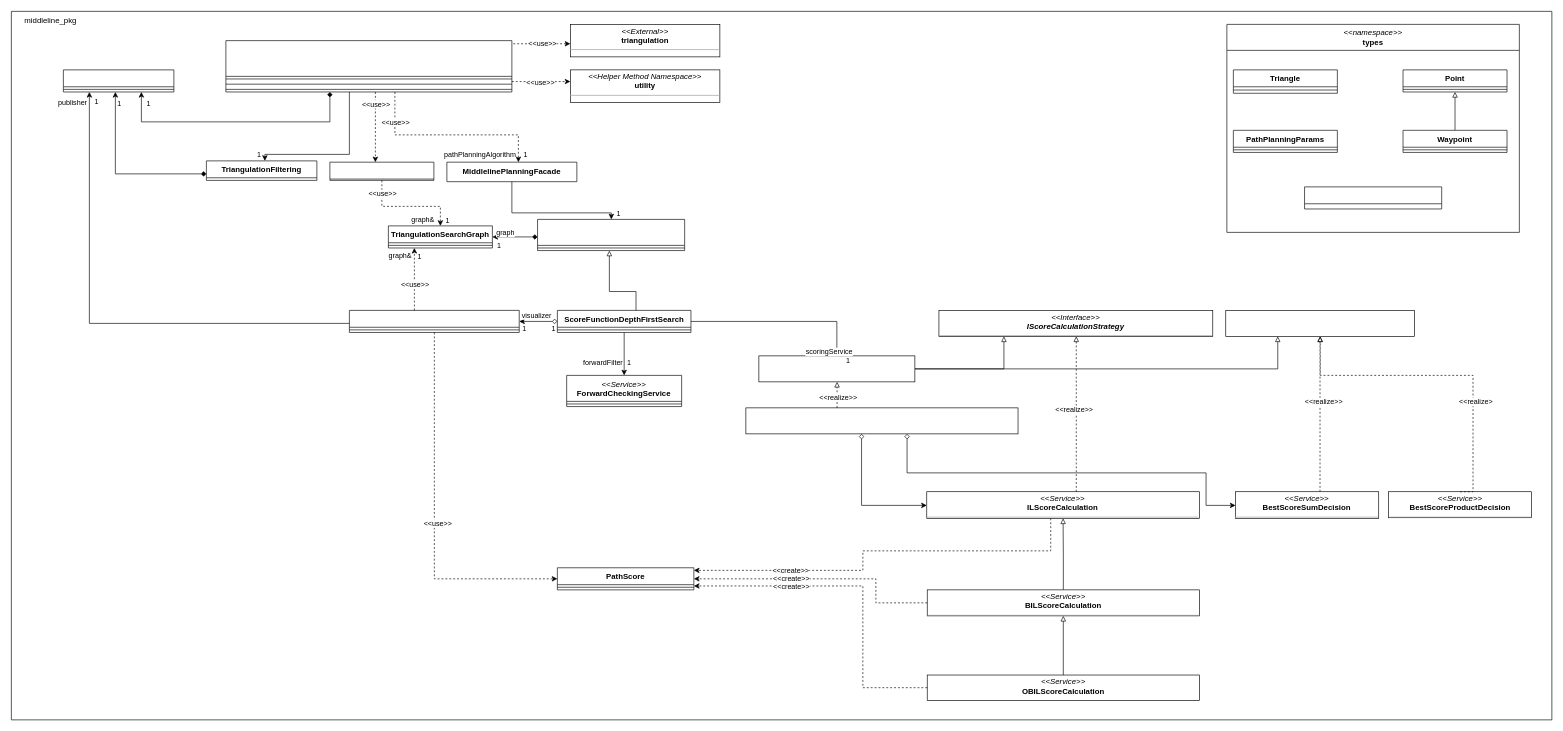
The diagram is 1563 pixels wide and 731 high, and some of its shapes have lost their labels. Here are the shapes that lost their labels. From the top down, the centre of each, then its label:
At pixel 118 80: "VisualizationPublisher".
At pixel 368 66: "<<node>> MiddleLineNode".
At pixel 381 171: "PathGenerator".
At pixel 1373 197: "AdjacencyList".
At pixel 611 235: "<<abstract>> DepthFirstSearchTemplate".
At pixel 434 321: "ScoreFunctionDepthFirstSearchVisualizer".
At pixel 1319 323: "<<Interface>> IScoreDecisionStrategy".
At pixel 836 368: "<<Interface>> IScoringStrategy".
At pixel 881 420: "<<Service>> HSLBestSum".
